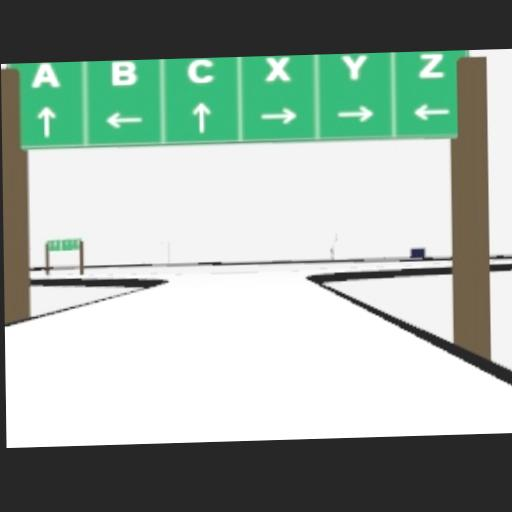A: (31, 62, 59, 88)
B: (111, 59, 137, 85)
C: (187, 57, 215, 83)
Left: (411, 104, 450, 121), (104, 111, 143, 128)
Right: (261, 106, 298, 125), (335, 106, 372, 123)
Straight: (37, 106, 55, 137), (193, 102, 211, 132)
X: (264, 55, 290, 81)
Y: (340, 53, 368, 80)
Z: (418, 52, 444, 78)
